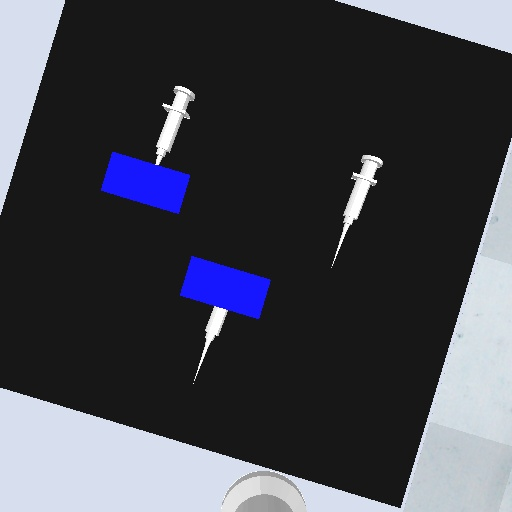jeringuilla: (328, 152, 387, 272), (151, 84, 200, 168), (190, 303, 235, 386)
